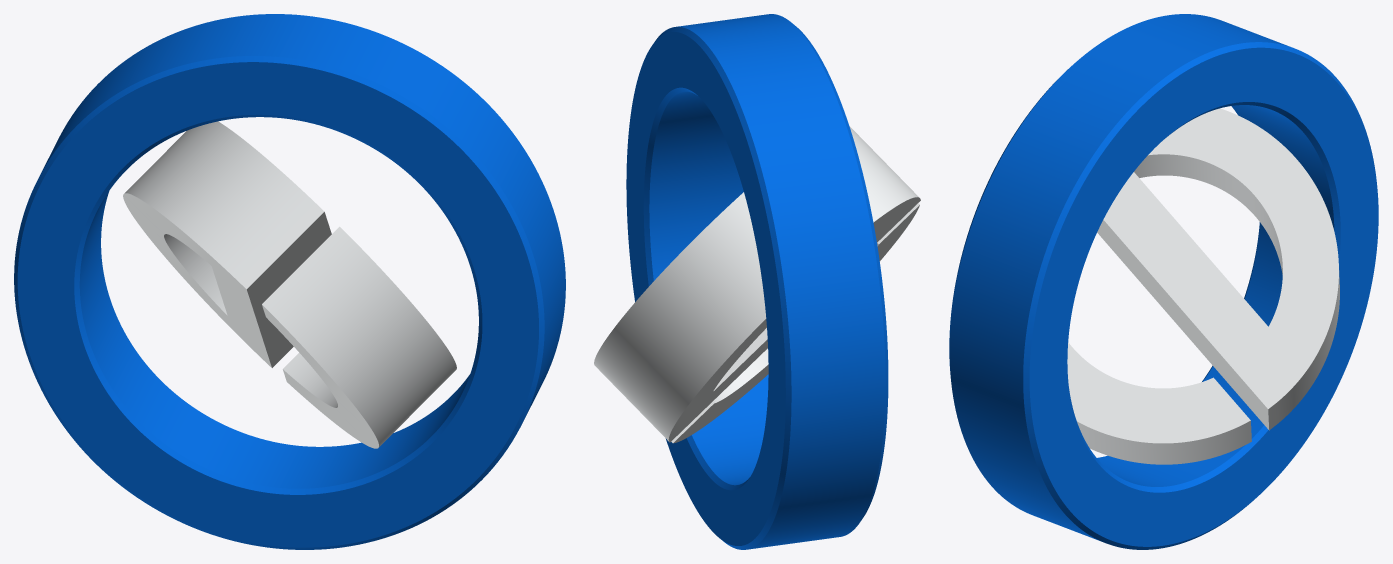
3 renders of one model, left to right at view 1: azimuth 30°, elevation 25°; view 2: azimuth 150°, elevation 25°; view 3: azimuth 270°, elevation 25°, orthographic. The views are drawn at different scales.
Visible parts, largest first — view 1: ring_logo.001, center_logo; view 2: ring_logo.001, center_logo; view 3: ring_logo.001, center_logo.
Part boxes in pixels (left/top/right/bottom): ring_logo.001: left=14, top=14, right=565, bottom=549; center_logo: left=123, top=121, right=456, bottom=448; ring_logo.001: left=626, top=14, right=888, bottom=549; center_logo: left=594, top=126, right=920, bottom=443; ring_logo.001: left=949, top=14, right=1378, bottom=549; center_logo: left=1067, top=108, right=1339, bottom=464.
Bounding box in the file's own units: 8.28 × 9.55 × 7.74.
